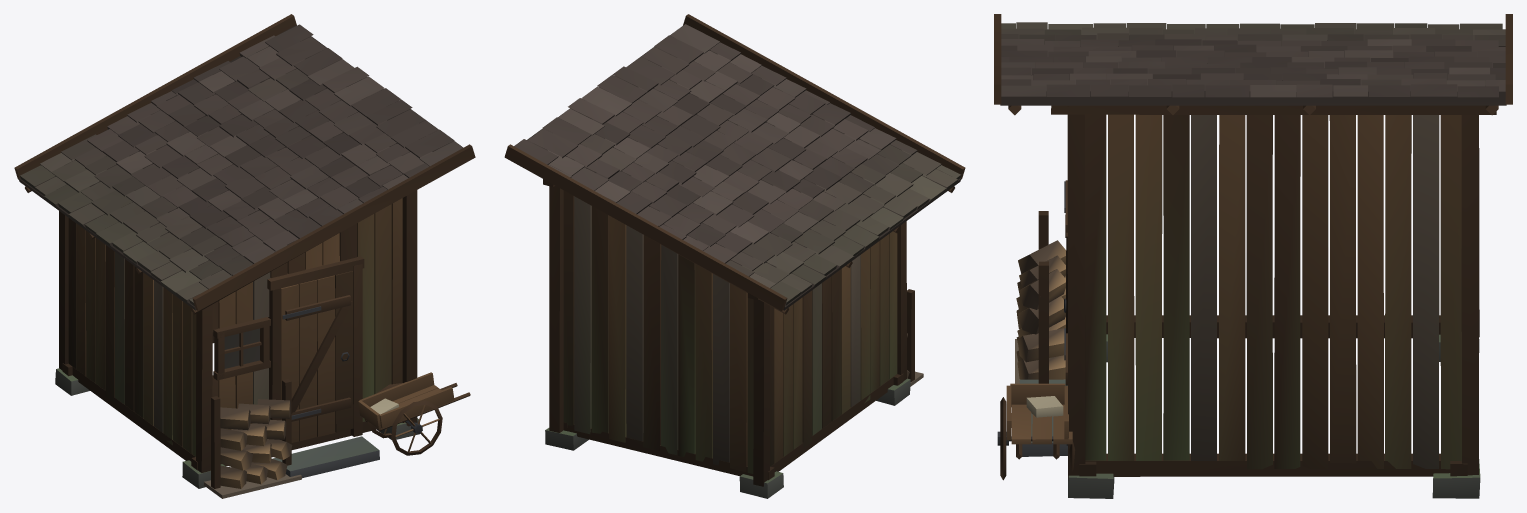
File: ph_bld_shed_l2.glb
3 views of the same model, side by side, from view 1: azimuth 30°, elevation 25°; view 2: azimuth 150°, elevation 25°; view 3: azimuth 270°, elevation 25° (orthographic). The views are drawn at different scales.
Parts seen in each view (by area): view 1: ph_bld_shed_l2; view 2: ph_bld_shed_l2; view 3: ph_bld_shed_l2.
Boxes of the visible parts, x1=… form: ph_bld_shed_l2: x1=14, y1=14, x2=475, y2=498; ph_bld_shed_l2: x1=504, y1=14, x2=965, y2=498; ph_bld_shed_l2: x1=994, y1=14, x2=1512, y2=498.
Bounding box in the file's own units: 3.28 × 3.32 × 3.61.
